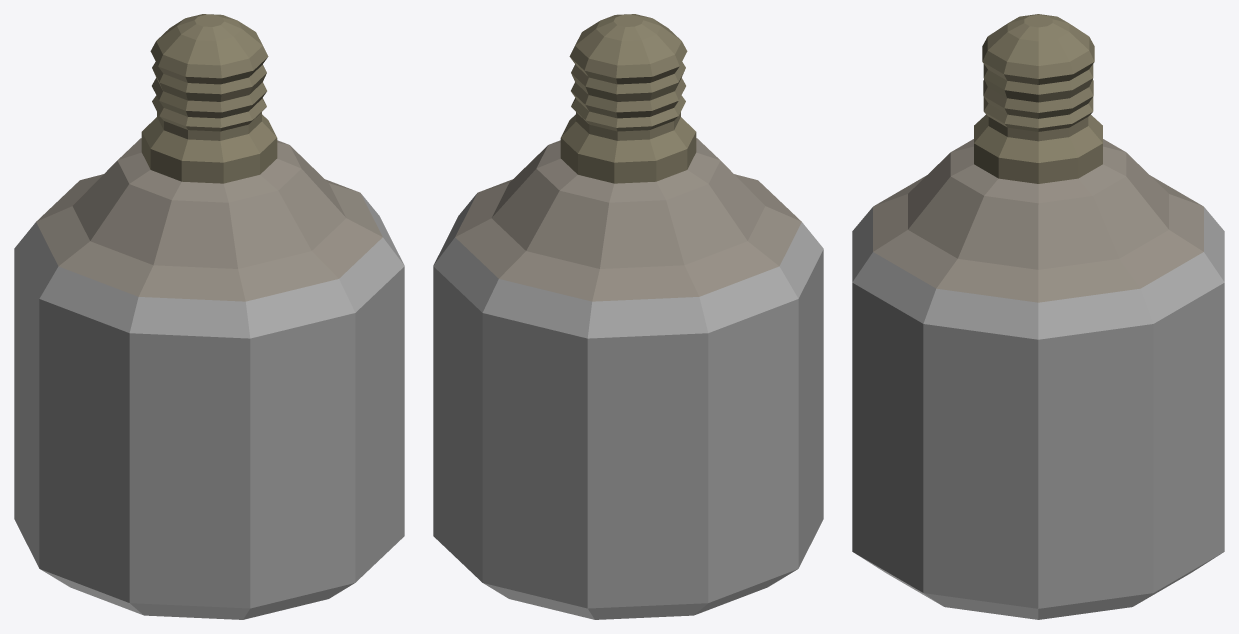
The model's file is bulb.fbx.
3 views of the same model, side by side, from view 1: azimuth 30°, elevation 25°; view 2: azimuth 150°, elevation 25°; view 3: azimuth 270°, elevation 25° (orthographic).
Visible parts, largest first — view 1: bulb; view 2: bulb; view 3: bulb.
Boxes of the visible parts, bbox=[...] form: bulb: bbox=[14, 14, 404, 619]; bulb: bbox=[433, 14, 823, 619]; bulb: bbox=[852, 14, 1224, 619].
Bounding box in the file's own units: 2 × 3.07 × 1.9.
